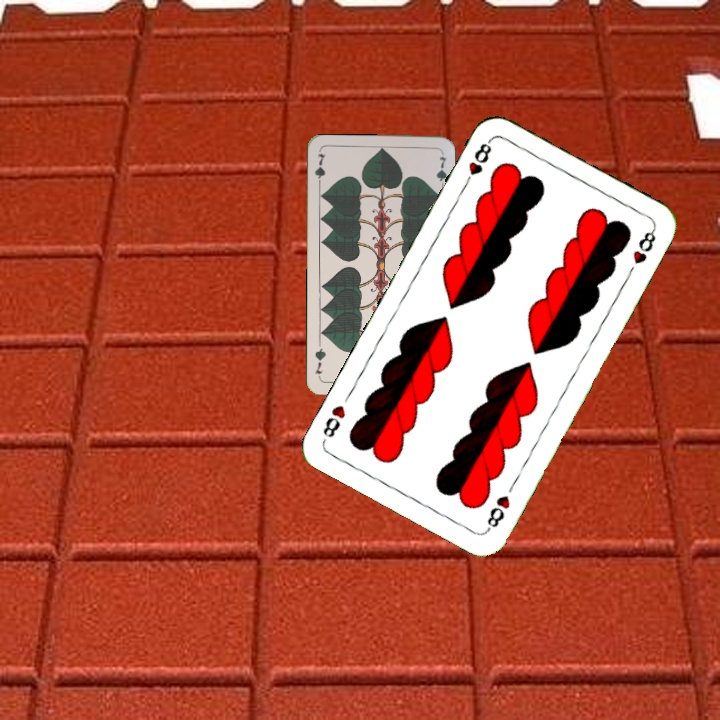G7: (311, 149, 328, 190)
H8: (459, 135, 494, 190), (483, 491, 513, 534)
